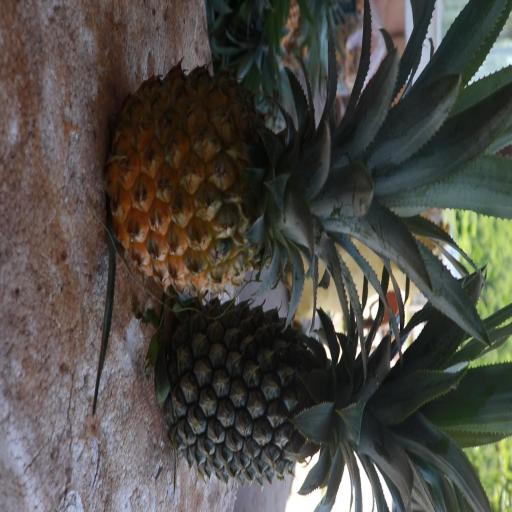Pineapple - v8 v1: (114, 81, 466, 290)
